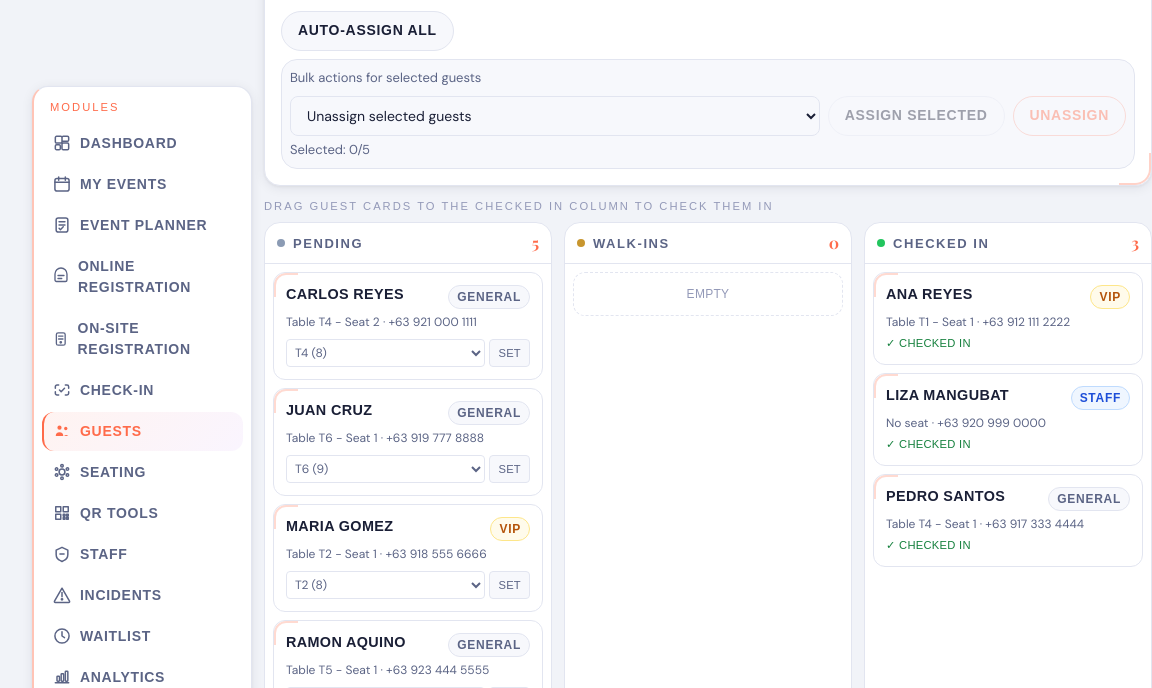
Test case: OrganizerManagePage smoke › supports inline seat assignment in guests page and guards checked-in guests
(page scrolled)
Select "T3 (10)" in the dropdown named "seat for carlos reyes". click: (386, 353)
box: [286,339,485,367]
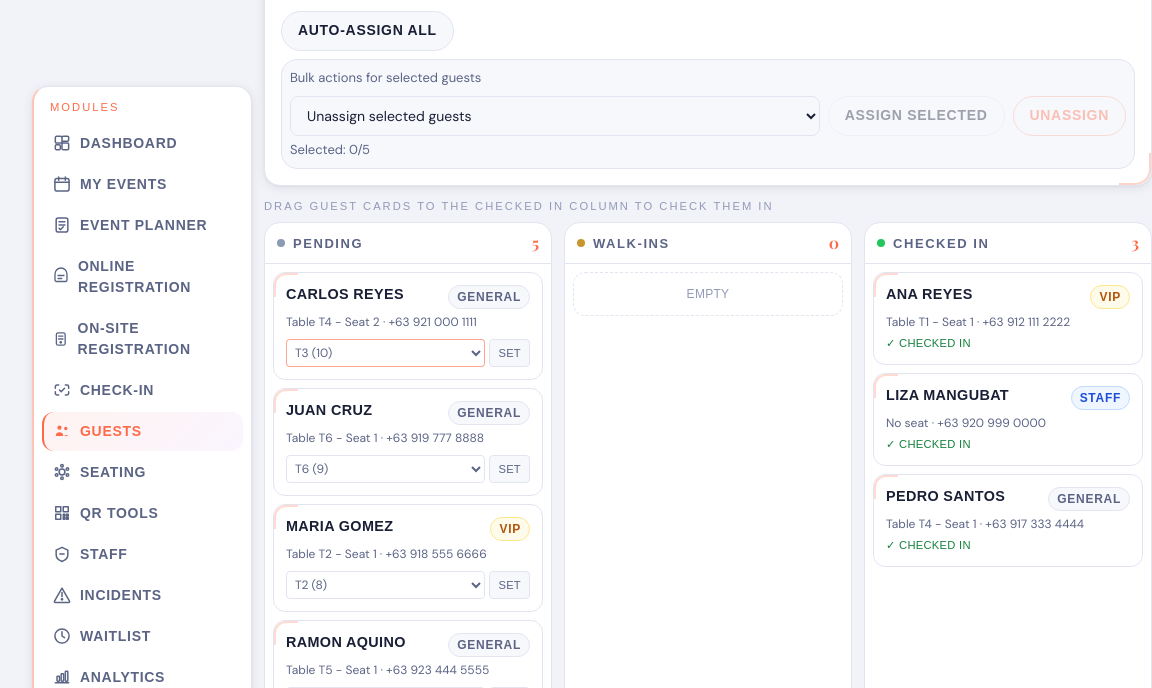
Click the button "Set" below "Table T4 - Seat 2". click: (510, 353)
box: [489,339,530,367]
(page scrolled)
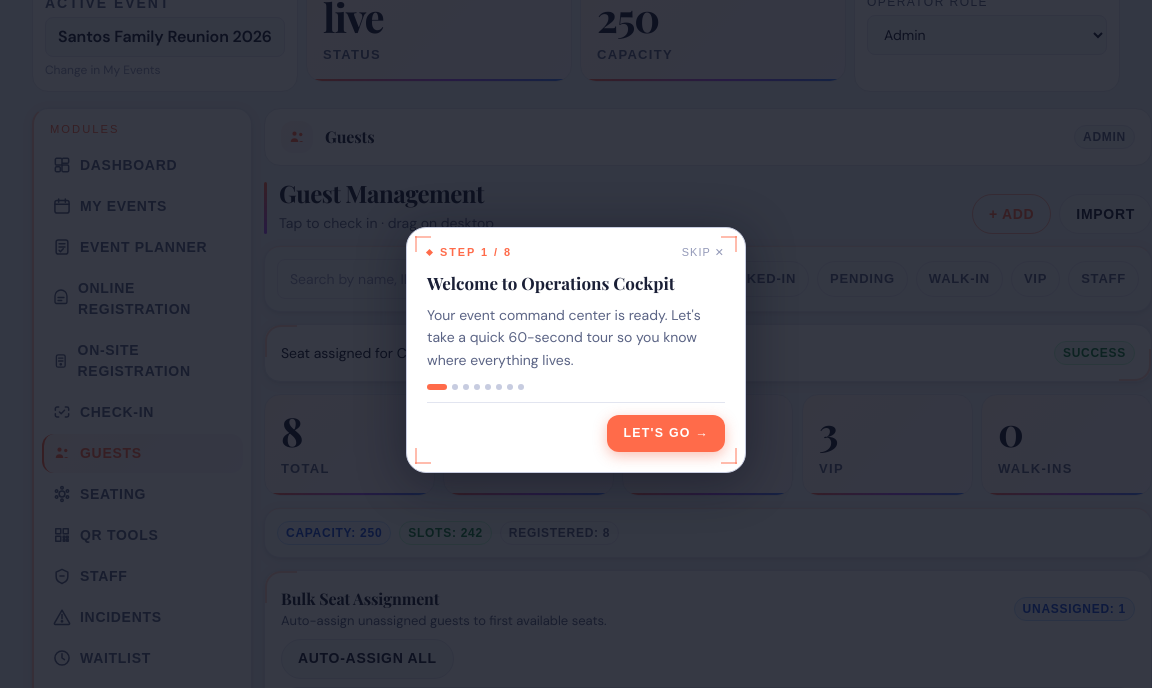
Expected: the text "Seat assigned for Carlos Reyes: T3 - Seat 1." is shown, [281,342,557,364]
